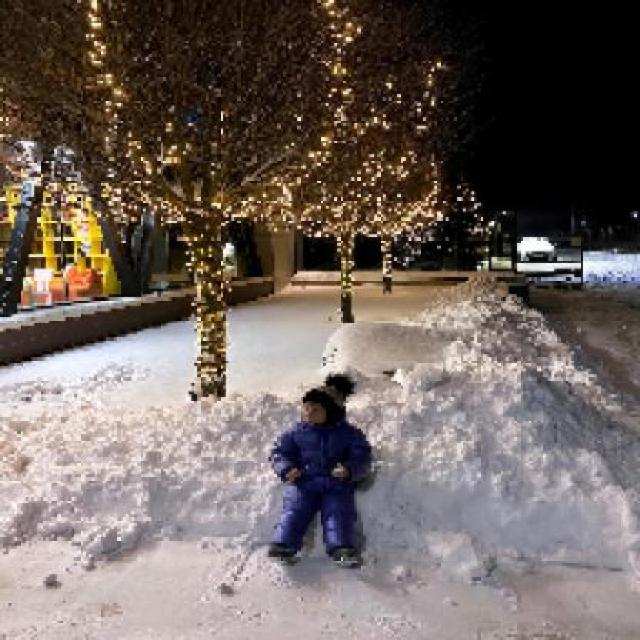child: (266, 374, 374, 563)
